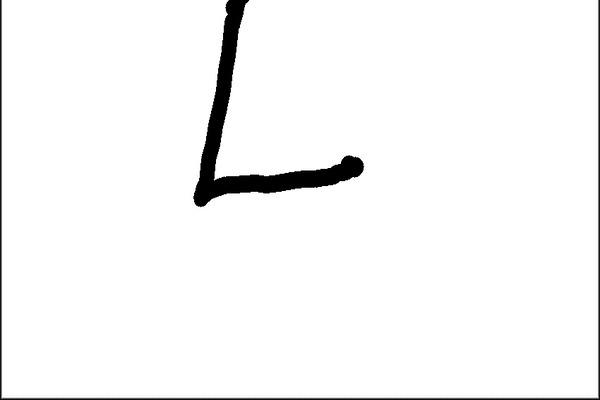L: (190, 3, 369, 213)
